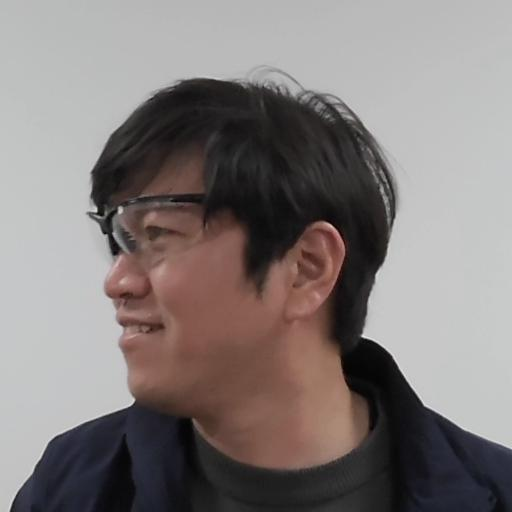glasses: (80, 81, 403, 409)
